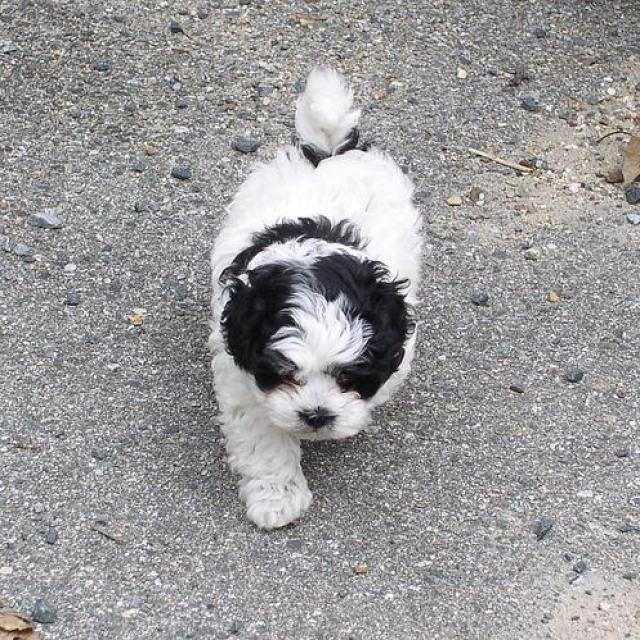shih_tzu: (206, 64, 429, 532)
